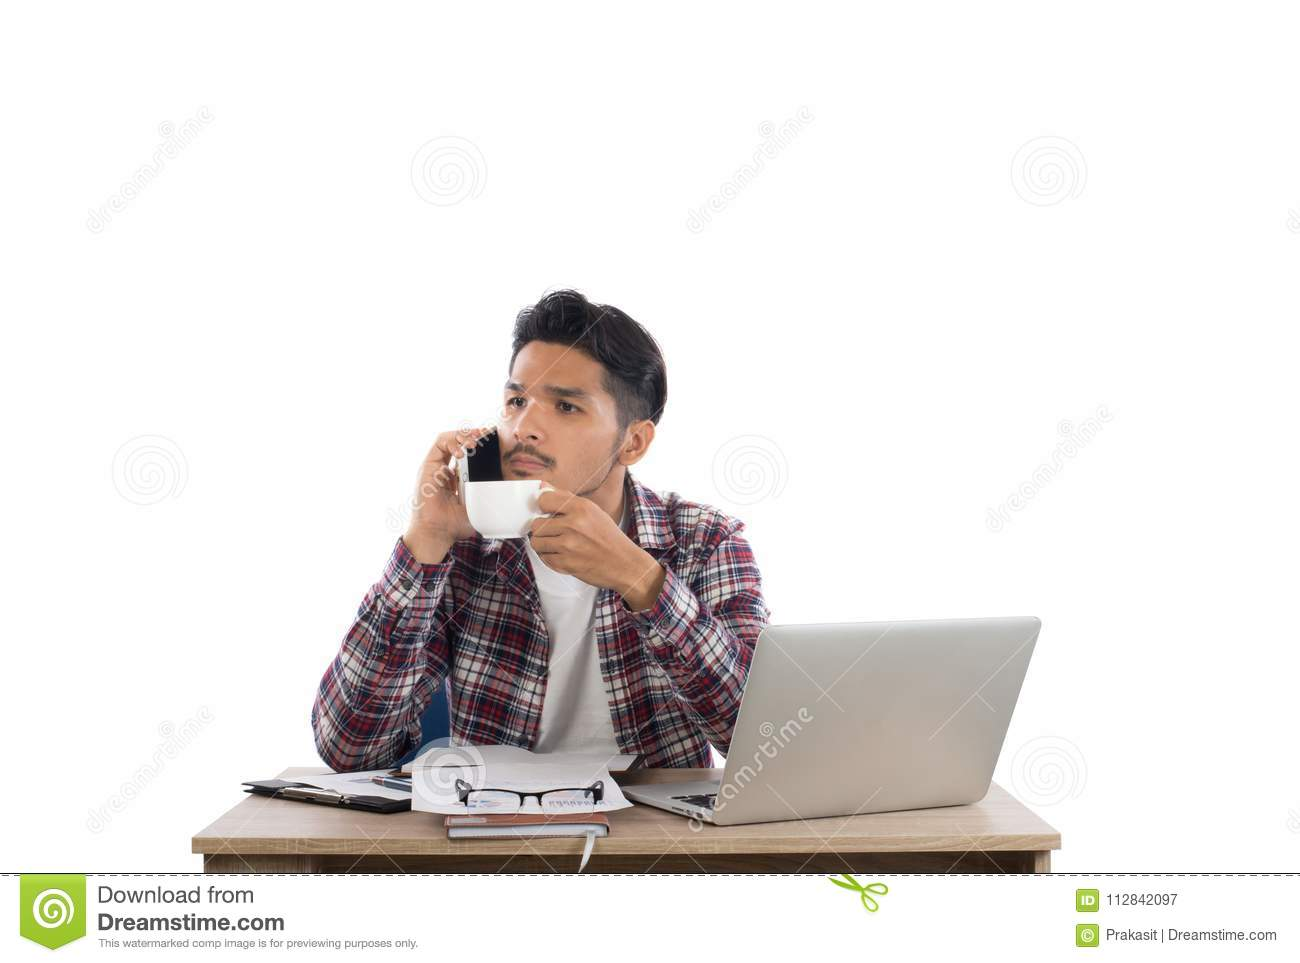phone: (453, 417, 505, 505)
talk: (411, 379, 591, 548)
